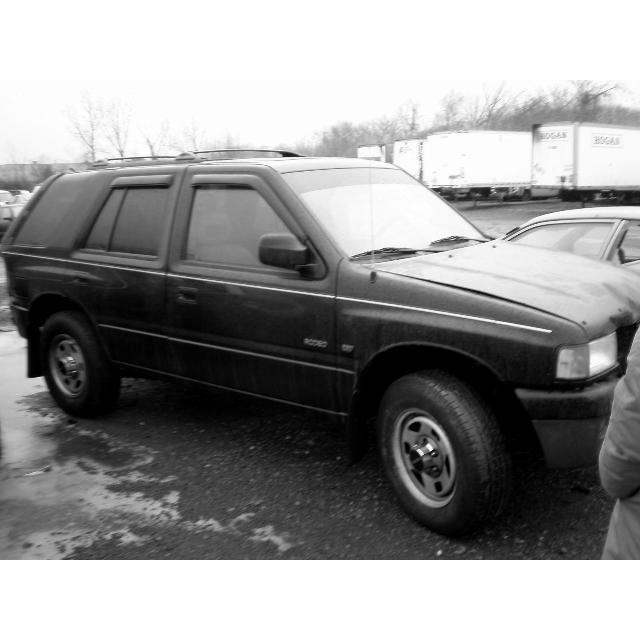bonnet-dent: (391, 254, 639, 332)
doorouter-dent: (178, 177, 332, 407)
